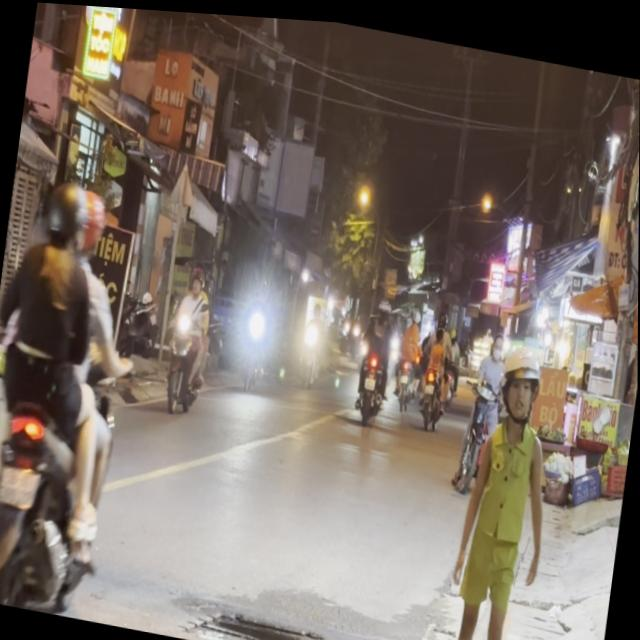helmet: (39, 176, 85, 253), (68, 182, 107, 261)
licenseplate: (0, 166, 149, 623), (158, 254, 219, 416)
nohelmet: (0, 462, 37, 506)
